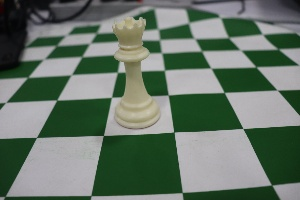white_queen: (102, 7, 165, 136)
